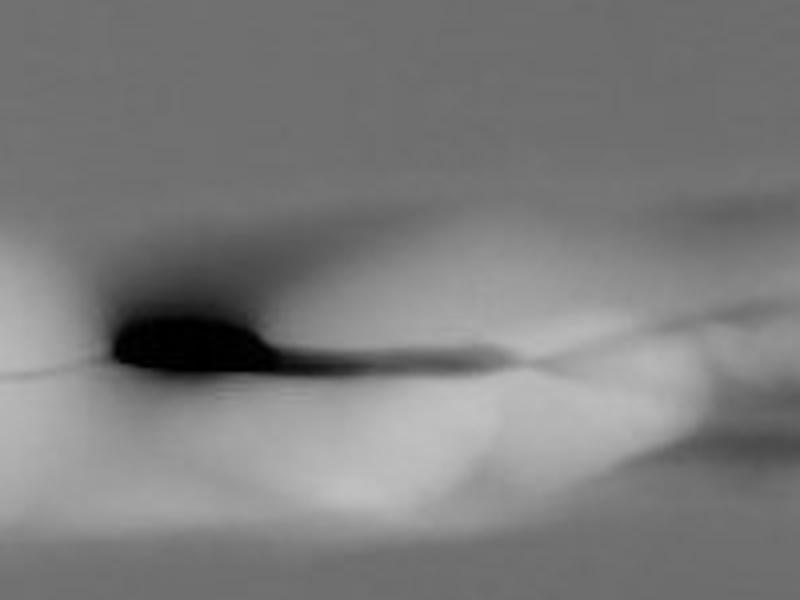defect: (109, 310, 277, 373)
